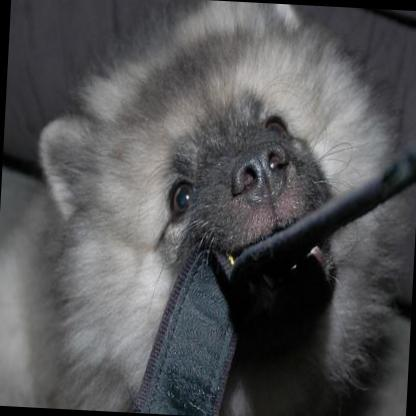keeshond: (0, 0, 414, 416)
